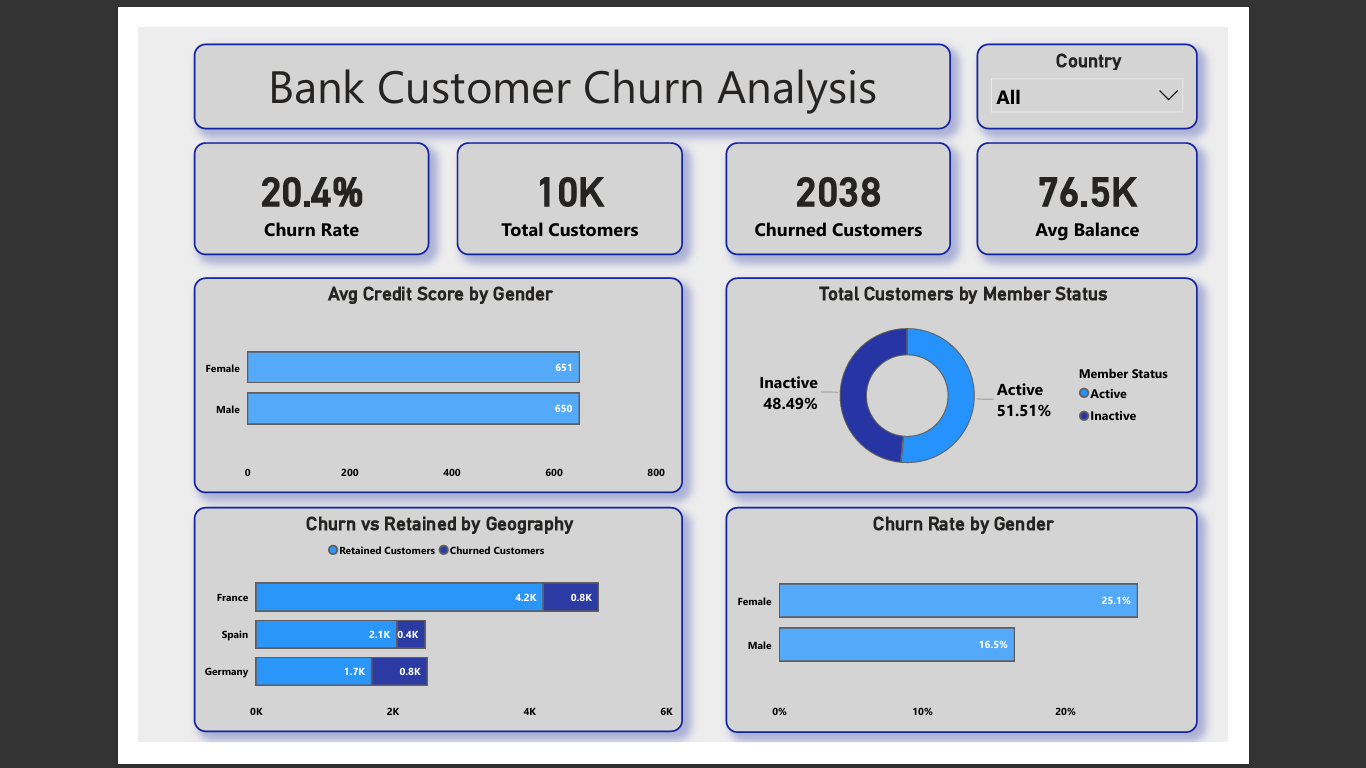

The dashboard page shown, as its layout file describes it:
{"tool":"powerbi","page":{"name":"Page 1","canvas":[1280,841],"ordinal":0},"visuals":[{"type":"card","fields":{"Values":["MEASURES (2).Churn Rate"]},"box":[64.9,134.9,276.7,133.2],"z":0},{"type":"card","fields":{"Values":["MEASURES (2).Total Customers"]},"box":[374,134.9,266.4,133.2],"z":1000},{"type":"card","fields":{"Values":["MEASURES (2).Churned Customers"]},"box":[689.9,134.9,264.7,133.2],"z":2000},{"type":"barChart","fields":{"Y":["MEASURES (2).Avg Credit Score"],"Category":["Customer-Churn-Records.Gender"]},"box":[64.9,293.7,575.5,254.5],"z":3000},{"type":"card","fields":{"Values":["MEASURES (2).Avg Balance"]},"box":[985.4,134.9,259.6,133.2],"z":4000},{"type":"donutChart","fields":{"Y":["MEASURES (2).Total Customers"],"Category":["Customer-Churn-Records.Member Status"]},"box":[689.9,293.7,555,254.5],"z":5000},{"type":"barChart","title":"Churn vs Retained by Geography","fields":{"Y":["MEASURES (2).Retained Customers","MEASURES (2).Churned Customers"],"Category":["Customer-Churn-Records.Geography"]},"box":[64.7,563.6,575.5,265.6],"z":5001},{"type":"barChart","fields":{"Category":["Customer-Churn-Records.Gender"],"Y":["MEASURES (2).Churn Rate"]},"box":[690,564,555,266],"z":5002},{"type":"textbox","box":[64.9,18.8,889.7,100.8],"z":5003},{"type":"slicer","title":"Country","fields":{"Values":["Customer-Churn-Records.Geography"]},"box":[985.4,18.8,259.6,100.8],"z":5004}]}

Visuals, with their boxes in screenshot pixels (x1, y1, x2, y2):
card - MEASURES (2).Churn Rate: crop(142, 108, 401, 233)
card - MEASURES (2).Total Customers: crop(431, 108, 680, 233)
card - MEASURES (2).Churned Customers: crop(726, 108, 974, 233)
barChart - MEASURES (2).Avg Credit Score x Customer-Churn-Records.Gender: crop(142, 257, 680, 494)
card - MEASURES (2).Avg Balance: crop(1002, 108, 1245, 233)
donutChart - MEASURES (2).Total Customers x Customer-Churn-Records.Member Status: crop(726, 257, 1245, 494)
"Churn vs Retained by Geography" barChart: crop(142, 509, 680, 757)
barChart - Customer-Churn-Records.Gender x MEASURES (2).Churn Rate: crop(726, 509, 1245, 758)
textbox: crop(142, 0, 974, 94)
"Country" slicer: crop(1002, 0, 1245, 94)
